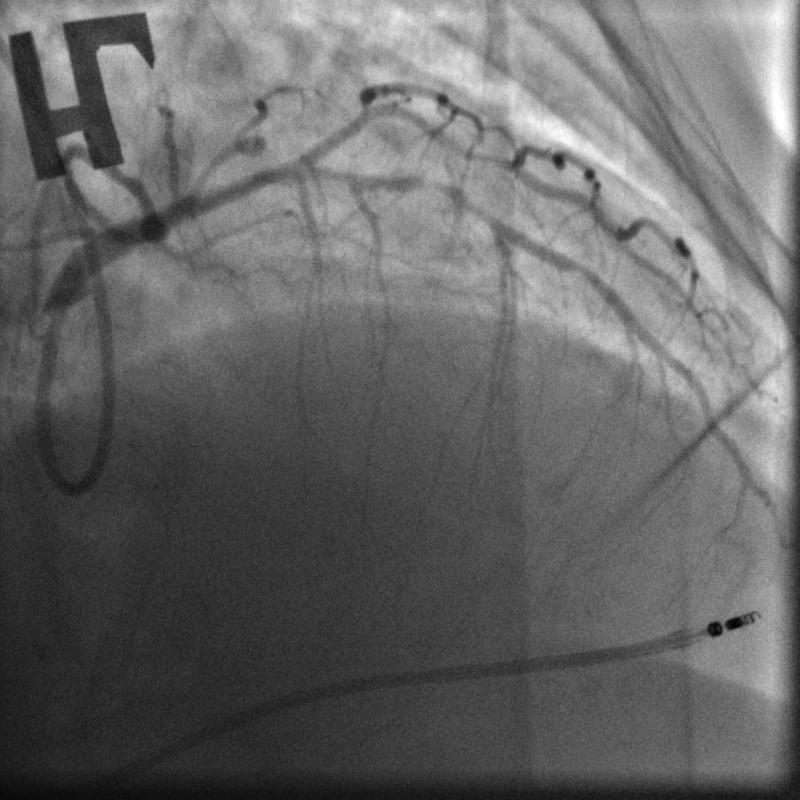Stenosis: (402, 167, 465, 205)
